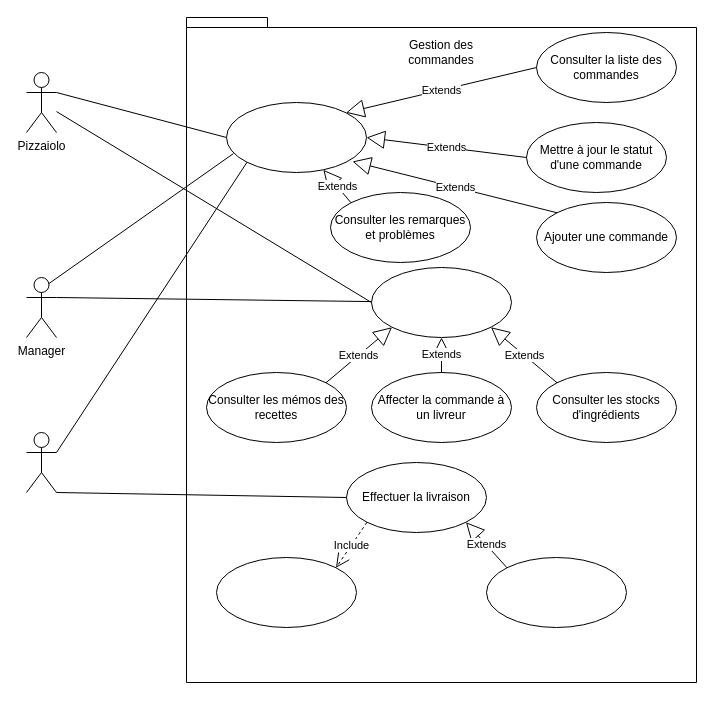
The diagram is 714 pixels wide and 708 high, and some of its shapes have lost their labels. Here are the shapes that lost their labels. From the top down, the centre of each, then its label:
point (296, 137): Consulter le tableau de bord
point (441, 302): Préparer la commande
point (41, 462): Livreur
point (286, 592): Afficher la commande à livrer
point (556, 592): Confirmer la livraison
